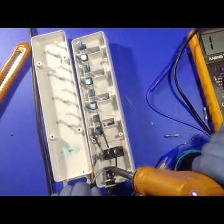three_eye_plug: (67, 30, 137, 192)
